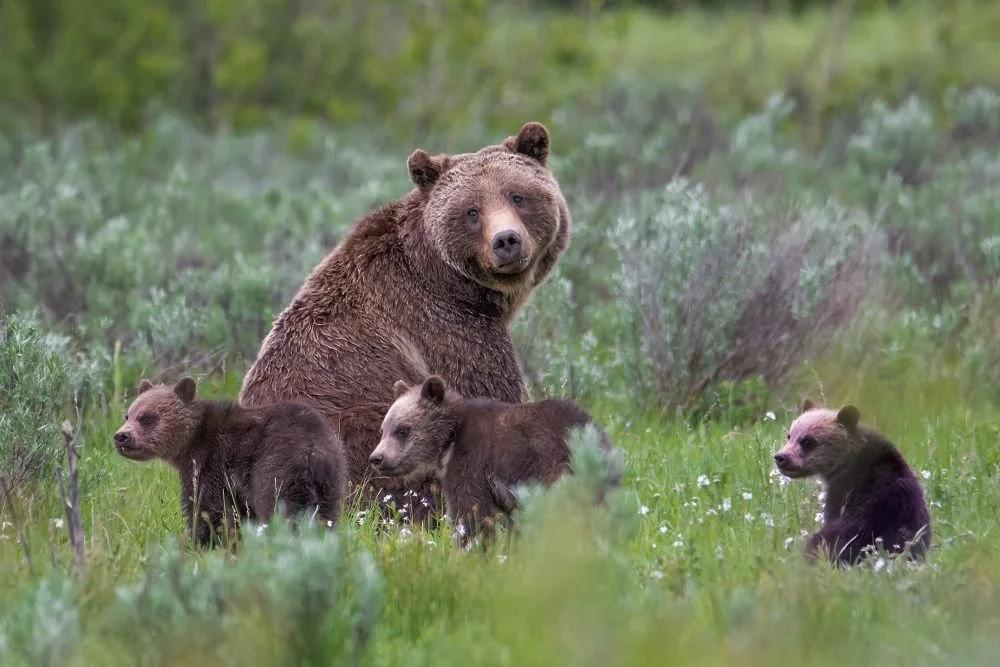ball: (206, 122, 588, 526), (774, 400, 928, 559), (196, 520, 210, 539)
